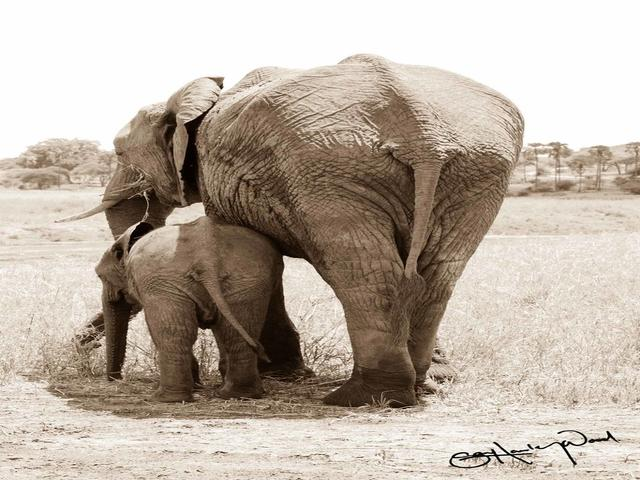elephant: (44, 38, 573, 391), (62, 211, 298, 378)
